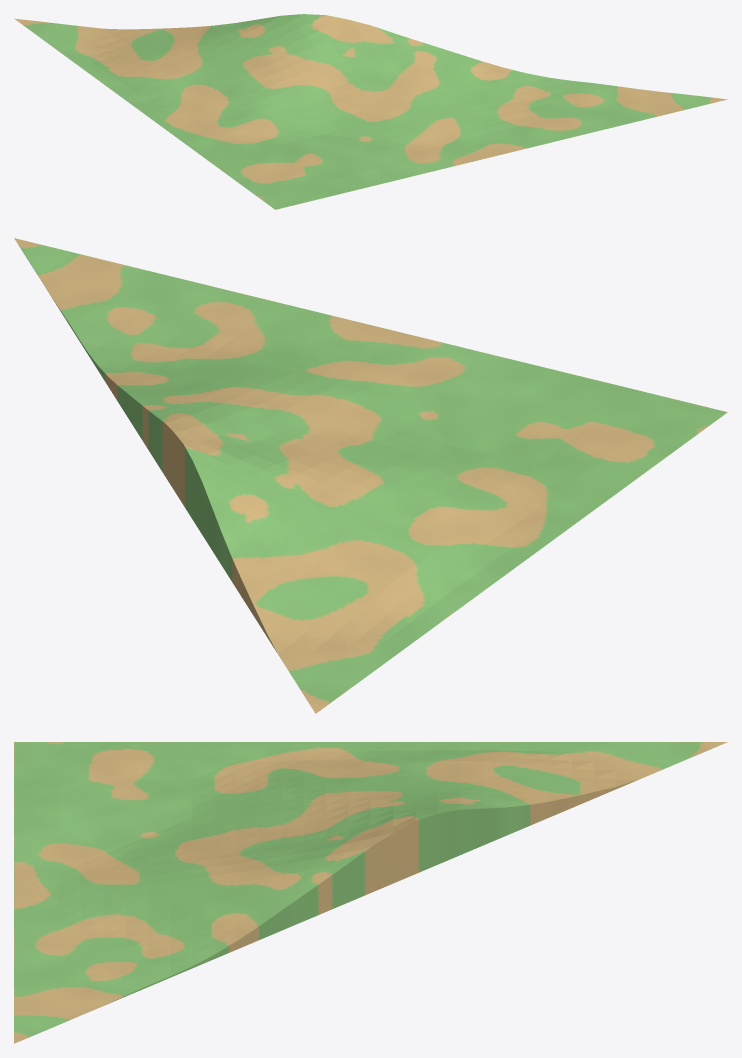
Rendered from Grass_Hills_04_NW.obj.
The picture shows the model from 3 angles, top to bottom: view 1: azimuth 30°, elevation 25°; view 2: azimuth 150°, elevation 25°; view 3: azimuth 270°, elevation 25°; orthographic projection. The views are drawn at different scales.
Bounding box in the file's own units: 10 × 0.8201 × 10.
Materials: 1 (1 with a texture image).
